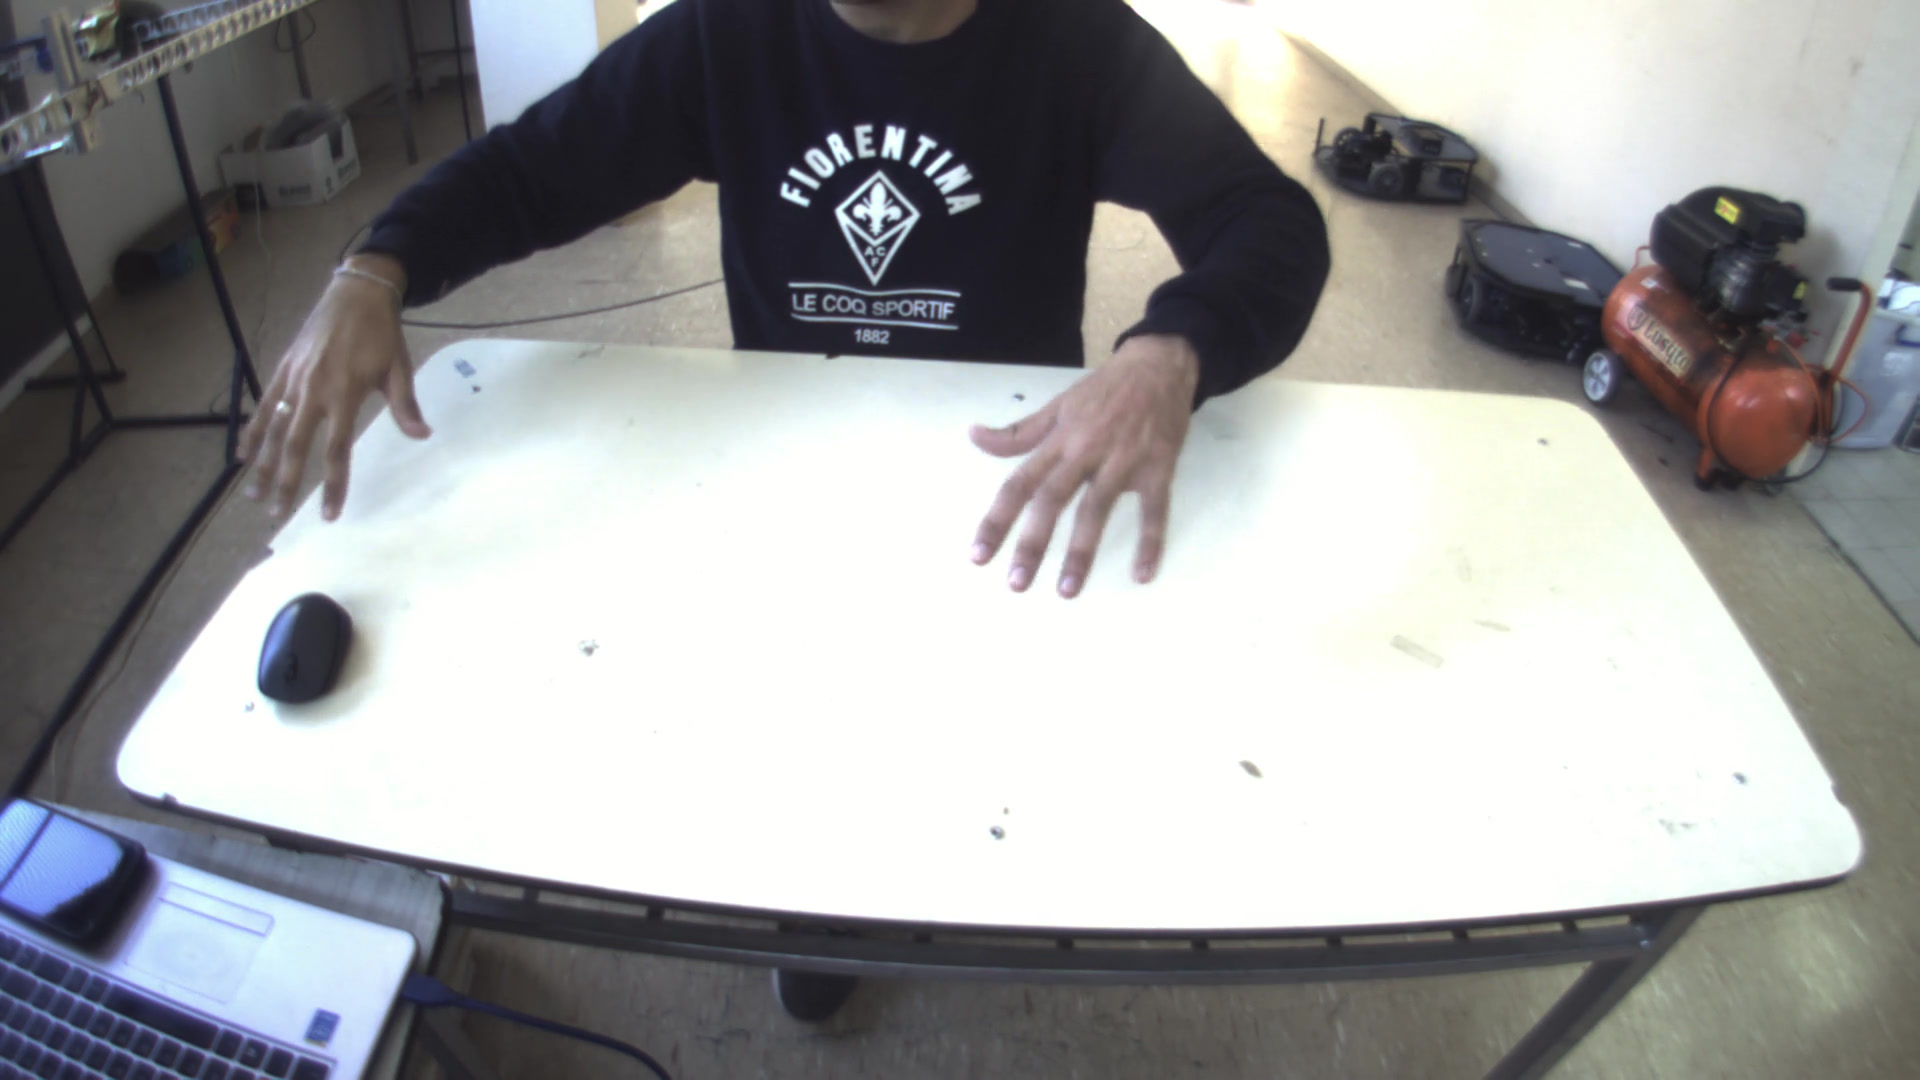hand: (955, 338, 1208, 611), (222, 255, 425, 534)
